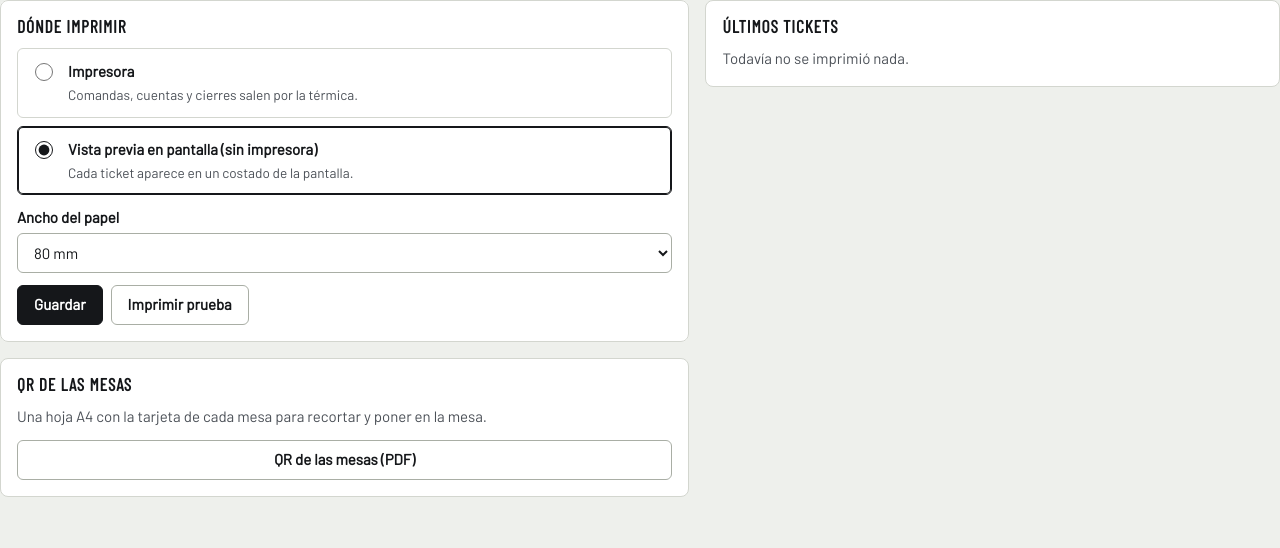
Test: elige la impresora de Windows y guarda
The width and height of the screenshot is (1280, 548).
Click the radio button labelled "Impresora" at {"x": 44, "y": 72}, box [35, 63, 53, 81]
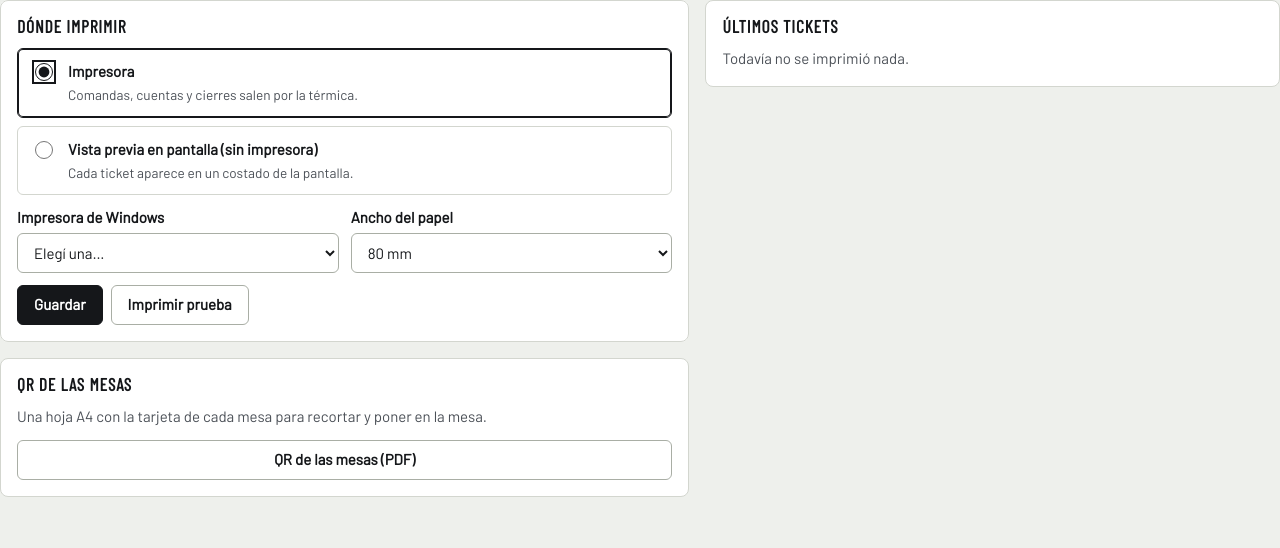
Select "Termica 80" in the dropdown labelled "Impresora de Windows" at {"x": 178, "y": 253}, box [17, 233, 339, 273]
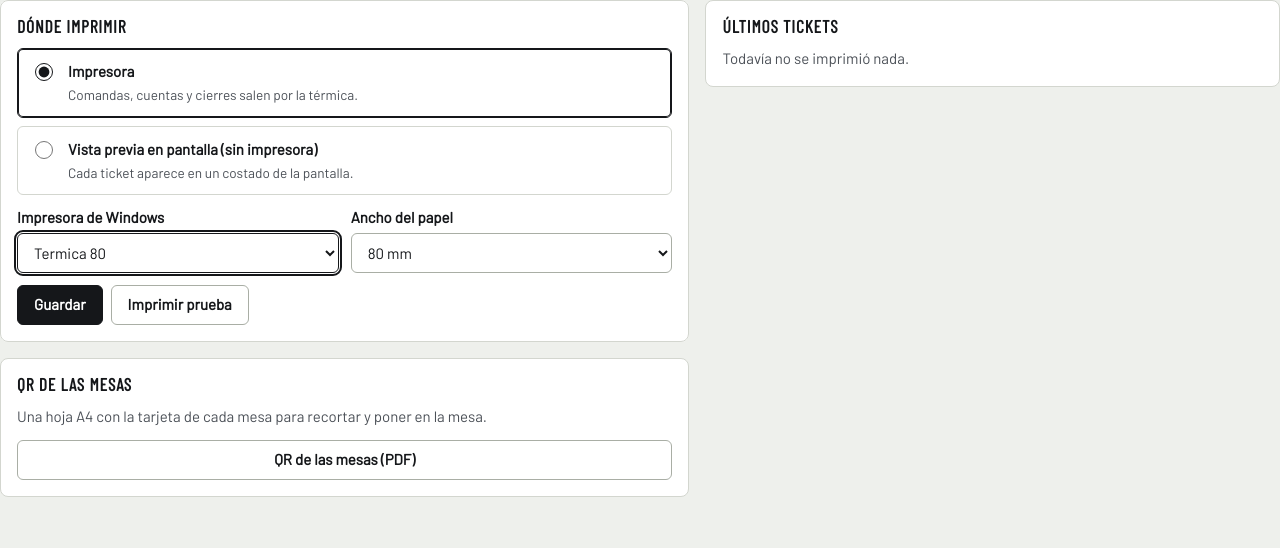
Click the button "Guardar" at {"x": 60, "y": 305}, box [17, 285, 103, 325]
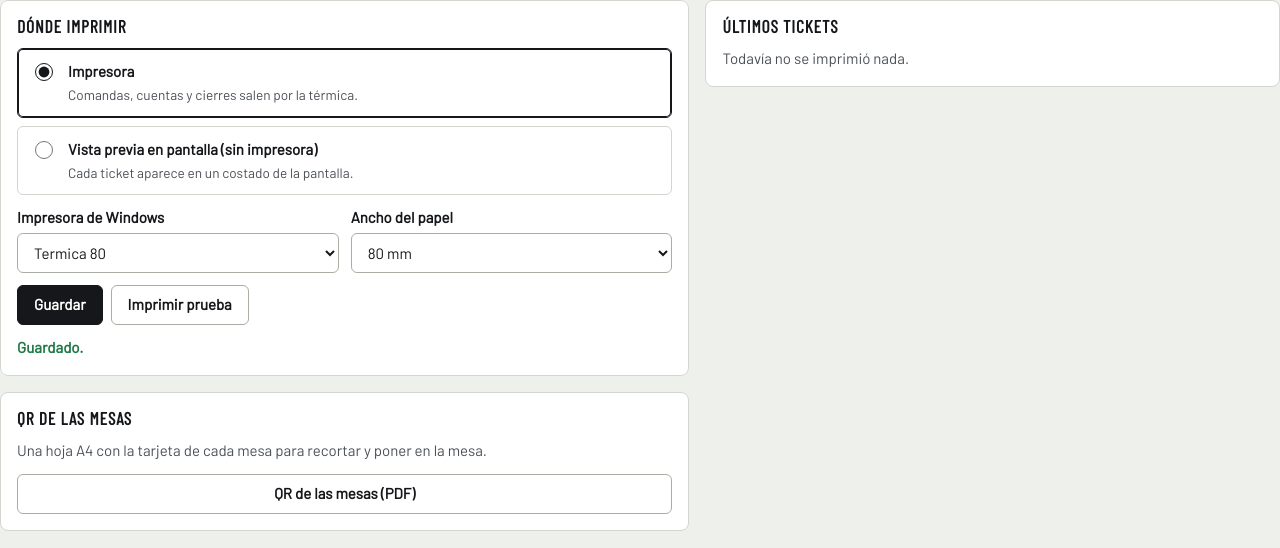
Check: the message shows "Guardado", box [17, 338, 84, 356]
